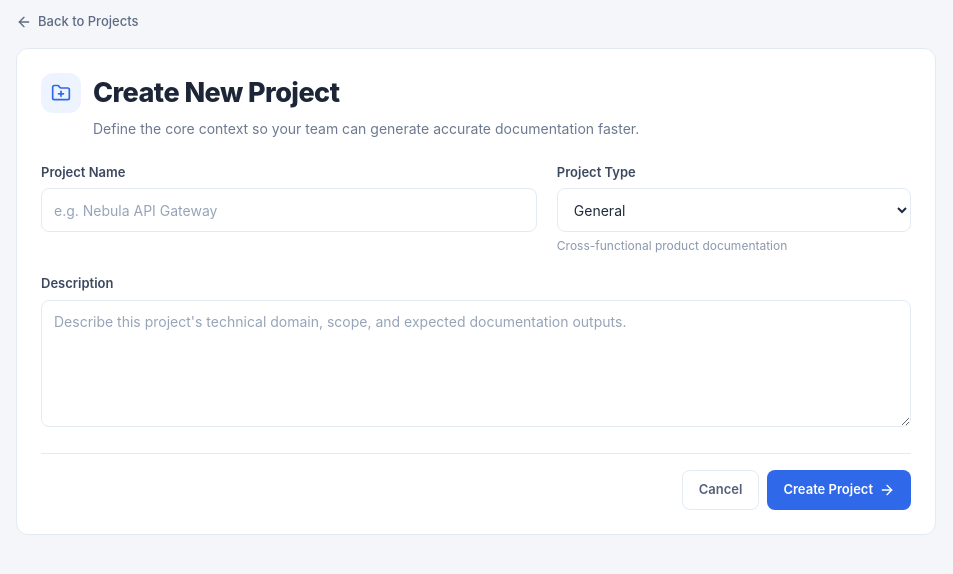
Test: CreateProjectPage › validates required fields before submit
Click the button "Create Project". click: [839, 490]
box: [767, 470, 911, 510]
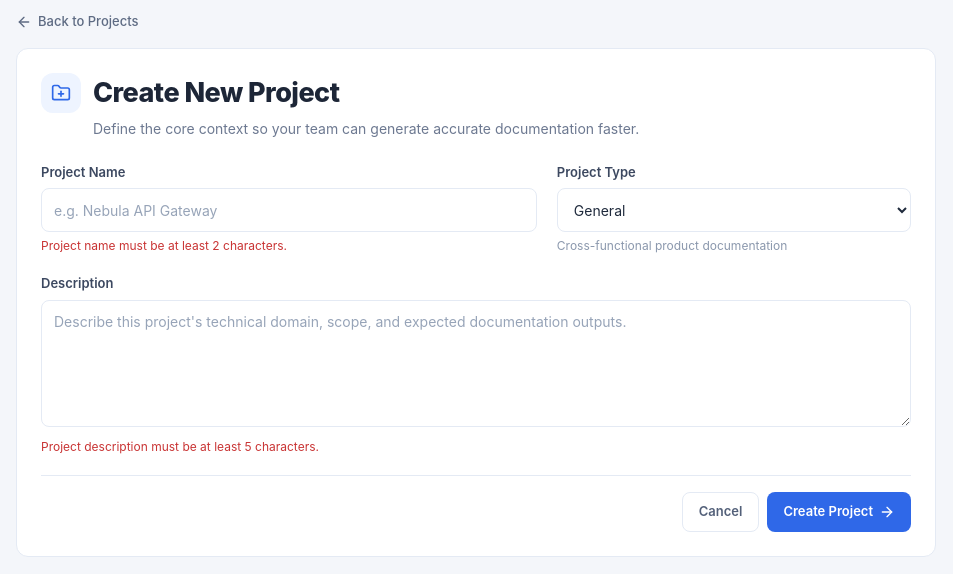
Expected: the text "Project name must be at least 2 characters." is shown, [41, 238, 287, 253]
Expected: the text "Project description must be at least 5 characters." is shown, [41, 438, 319, 454]
